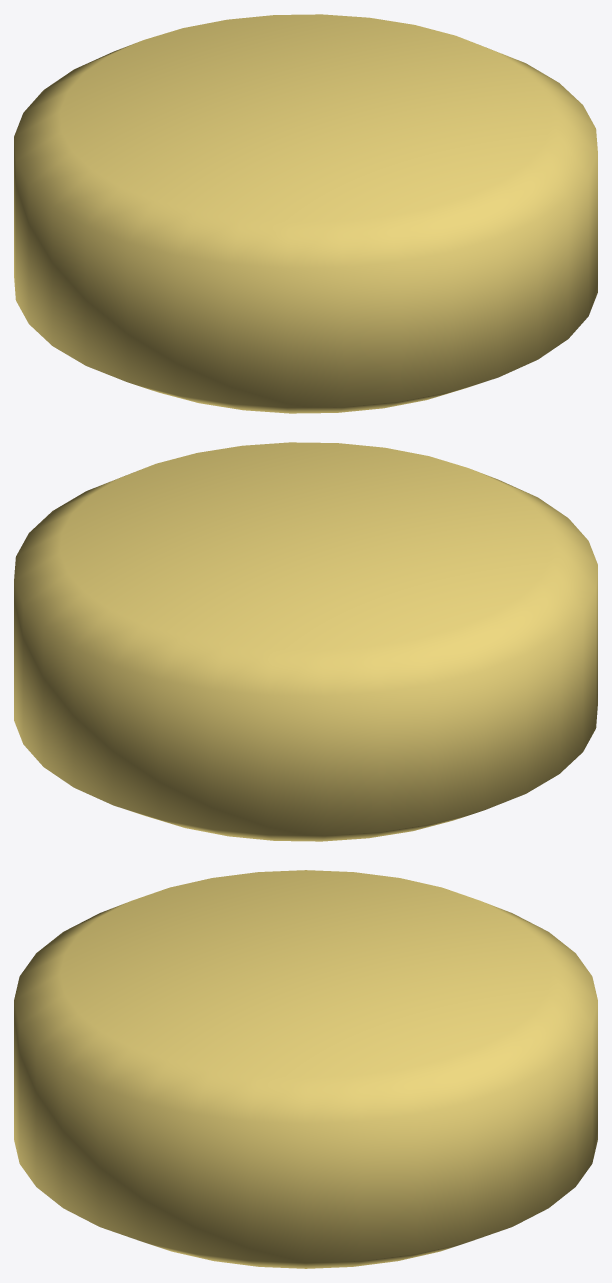
File: Bun.fbx
3 views of the same model, one above another, from view 1: azimuth 30°, elevation 25°; view 2: azimuth 150°, elevation 25°; view 3: azimuth 270°, elevation 25° (orthographic).
Visible parts, largest first — view 1: Bun; view 2: Bun; view 3: Bun.
Part boxes in pixels (x1,y1,x2,y2): Bun: (14,14,597,413); Bun: (14,442,597,841); Bun: (14,870,597,1268).
Bounding box in the file's own units: 40.12 × 14.63 × 40.12.
